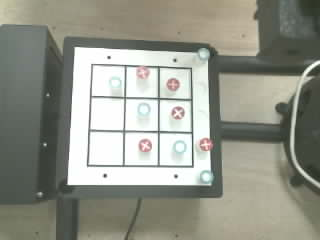blue circle: (173, 140, 186, 153), (200, 170, 213, 183), (198, 48, 210, 60), (138, 103, 150, 115), (109, 77, 121, 88)
board: (67, 46, 212, 186)
cells: (89, 132, 122, 165), (125, 133, 157, 165), (159, 134, 192, 165), (125, 99, 158, 130), (92, 65, 124, 96), (91, 98, 123, 129), (160, 100, 191, 131), (126, 67, 157, 97), (160, 68, 190, 98)
grid: (87, 64, 193, 167)
red cross: (171, 106, 184, 119), (166, 78, 179, 90), (136, 66, 149, 78), (199, 138, 212, 150), (139, 139, 151, 151)
